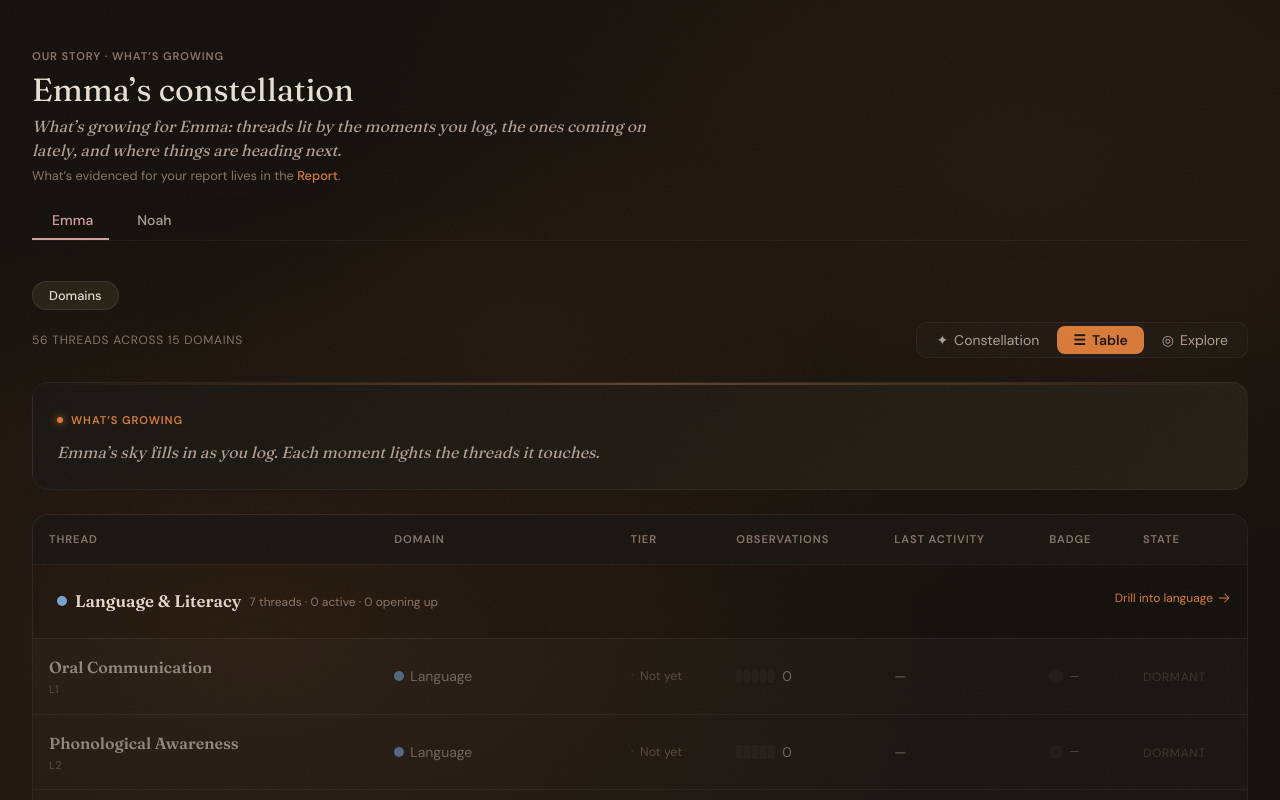
Test: ConstellationRoute › learner switch › resets depth/focus back to 1 when the learner changes
The width and height of the screenshot is (1280, 800).
Step 1. Click the button "Drill into" → (640, 601), box 33,564 -> 1247,638
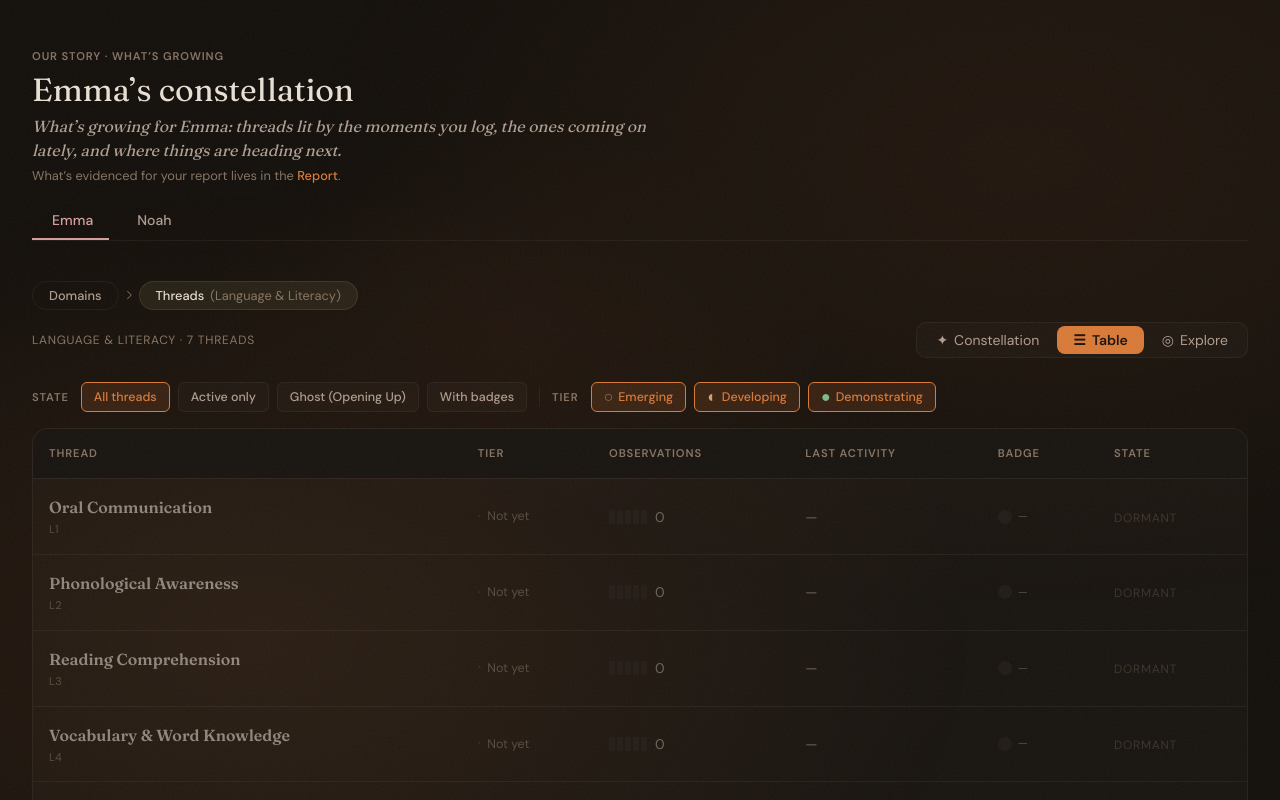
Expected: the button "Threads (Language & Literacy)" is shown, 138,281 -> 358,310
